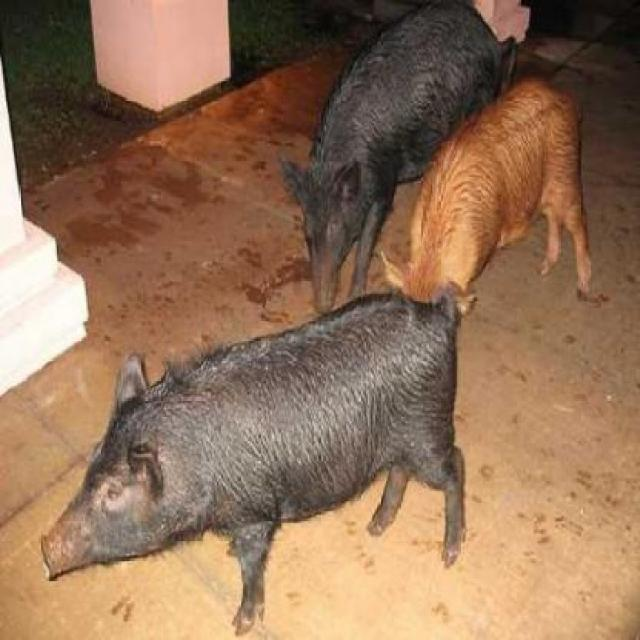pig: (21, 294, 502, 595), (262, 5, 514, 312)
